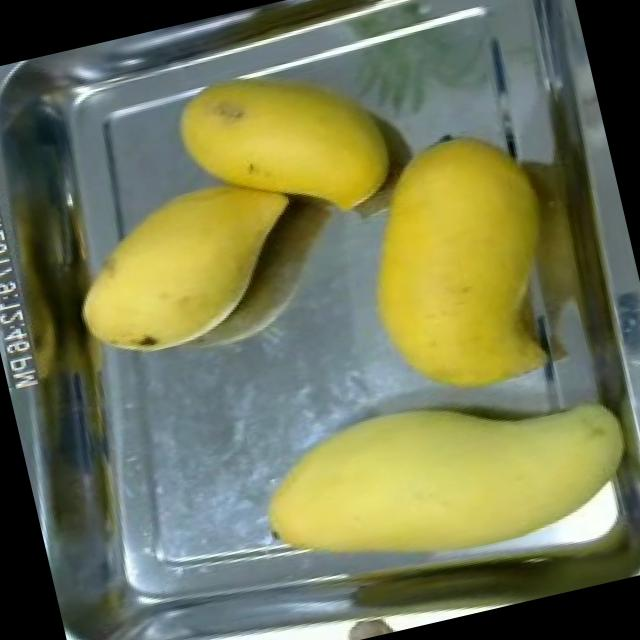fruit: (231, 354, 591, 596), (328, 108, 590, 425), (47, 151, 329, 380), (159, 37, 410, 252)
